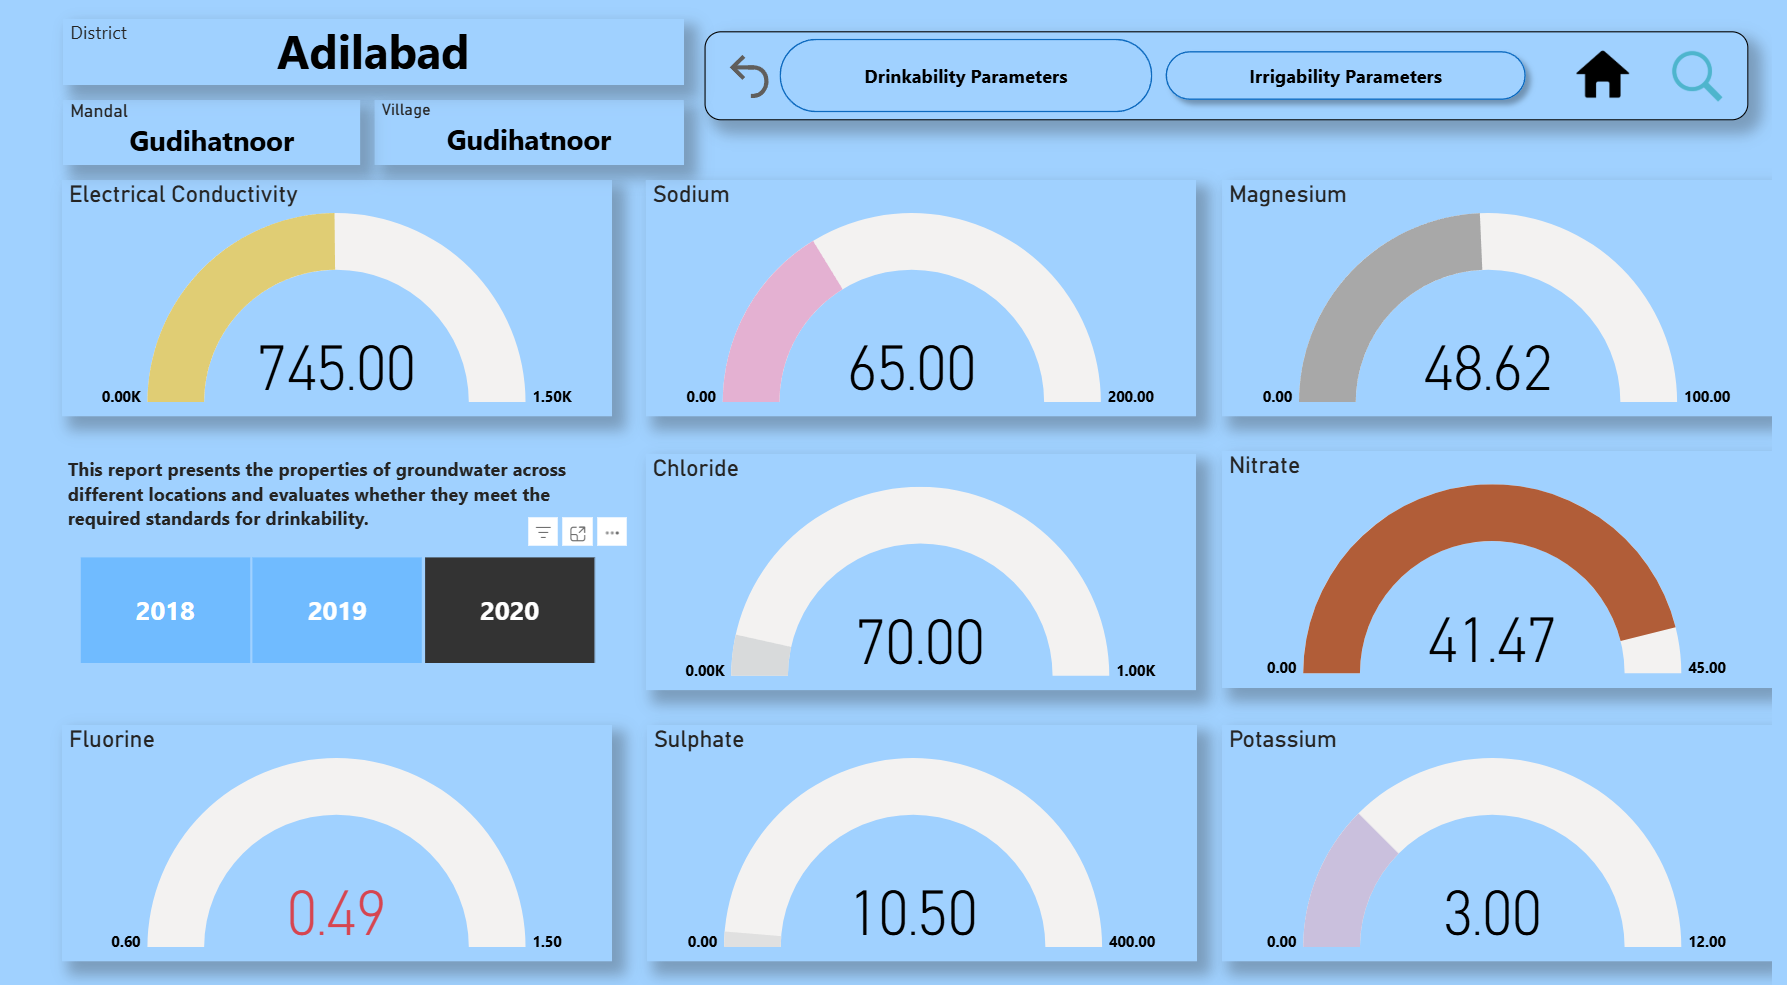

Layout of this report page (visuals, bound fields, positions):
{"tool":"powerbi","page":{"name":"Drinkability Parameters","canvas":[1280,720],"ordinal":2},"visuals":[{"type":"card","title":"District","fields":{"Values":["Water Measures.Drill District"]},"box":[37.3,12.8,451.3,47.8],"z":0,"group":"g1"},{"type":"shape","title":"Base Bar","box":[503.5,23.1,758.9,64.9],"z":0},{"type":"gauge","title":"Electrical Conductivity","fields":{"Y":["Water Measures.Electrical Conductivity"]},"box":[36.1,131.3,399.6,171.7],"z":0,"group":"g2"},{"type":"card","title":"Mandal","fields":{"Values":["Water Measures.Drill Mandal"]},"box":[37.5,71.9,216.3,47.5],"z":1000,"group":"g1"},{"type":"gauge","fields":{"Y":["Water Measures.Magnesium"]},"box":[880.1,131.3,399.6,171.7],"z":1000,"group":"g2"},{"type":"slicer","title":"Year Filter","fields":{"Values":["Cleaned Data.Year"]},"box":[23.9,398.5,423.9,91],"z":1000},{"type":"actionButton","title":"Reset View","box":[515.1,34.6,43.3,41.8],"z":2000},{"type":"card","title":"Village","fields":{"Values":["Water Measures.Drill Village"]},"box":[263.9,71.9,225,47.5],"z":2000,"group":"g1"},{"type":"gauge","fields":{"Y":["Water Measures.Sodium"]},"box":[460.3,131.3,399.6,171.7],"z":2000,"group":"g2"},{"type":"group","id":"g1","title":"Location Name Boxes","box":[37.3,8.7,451.6,110.7],"z":3000},{"type":"textbox","box":[37.3,8.7,73.4,32.7],"z":3000,"group":"g1"},{"type":"gauge","fields":{"Y":["Water Measures.Chloride"]},"box":[460.3,330.4,399.6,171.7],"z":3000,"group":"g2"},{"type":"shape","title":"Drink Navi","box":[558.5,28.6,271.2,53.5],"z":4000},{"type":"gauge","fields":{"Y":["Water Measures.Nitrate"]},"box":[880.1,329,399.6,171.7],"z":4000,"group":"g2"},{"type":"shape","title":"Irrig Navi","box":[829.7,28.6,279.9,53.5],"z":5000},{"type":"gauge","fields":{"Y":["Water Measures.Fluorine"]},"box":[36.1,527.3,399.6,171.7],"z":5000,"group":"g2"},{"type":"gauge","fields":{"Y":["Water Measures.Sulphate"]},"box":[461.7,528.1,399.6,171.7],"z":6000,"group":"g2"},{"type":"image","title":"Search Button","box":[1170.5,26.1,109.5,58.5],"z":7000},{"type":"gauge","fields":{"Y":["Water Measures.Potassium"]},"box":[880.1,528.1,399.6,171.7],"z":7000,"group":"g2"},{"type":"image","title":"Home","box":[1094.7,29.9,124.4,48.5],"z":8000},{"type":"group","id":"g2","title":"All Gauges","box":[36.1,131.3,1243.7,568.4],"z":9000},{"type":"textbox","box":[35.8,326.9,400,65.7],"z":11000}]}

Visuals, with their boxes in screenshot pixels (x1, y1, x2, y2), scaled from the page's 1280x720 canvas onto the 1787x985 screenshot:
"District" card: pyautogui.locateOnScreen(52, 18, 682, 83)
"Base Bar" shape: pyautogui.locateOnScreen(703, 32, 1762, 120)
"Electrical Conductivity" gauge: pyautogui.locateOnScreen(50, 180, 608, 415)
"Mandal" card: pyautogui.locateOnScreen(52, 98, 354, 163)
gauge - Water Measures.Magnesium: pyautogui.locateOnScreen(1229, 180, 1786, 415)
"Year Filter" slicer: pyautogui.locateOnScreen(33, 545, 625, 670)
"Reset View" actionButton: pyautogui.locateOnScreen(719, 47, 780, 105)
"Village" card: pyautogui.locateOnScreen(368, 98, 683, 163)
gauge - Water Measures.Sodium: pyautogui.locateOnScreen(643, 180, 1201, 415)
"Location Name Boxes" group: pyautogui.locateOnScreen(52, 12, 683, 163)
textbox: pyautogui.locateOnScreen(52, 12, 155, 57)
gauge - Water Measures.Chloride: pyautogui.locateOnScreen(643, 452, 1201, 687)
"Drink Navi" shape: pyautogui.locateOnScreen(780, 39, 1158, 112)
gauge - Water Measures.Nitrate: pyautogui.locateOnScreen(1229, 450, 1786, 685)
"Irrig Navi" shape: pyautogui.locateOnScreen(1158, 39, 1549, 112)
gauge - Water Measures.Fluorine: pyautogui.locateOnScreen(50, 721, 608, 956)
gauge - Water Measures.Sulphate: pyautogui.locateOnScreen(645, 722, 1202, 957)
"Search Button" image: pyautogui.locateOnScreen(1634, 36, 1786, 116)
gauge - Water Measures.Potassium: pyautogui.locateOnScreen(1229, 722, 1786, 957)
"Home" image: pyautogui.locateOnScreen(1528, 41, 1702, 107)
"All Gauges" group: pyautogui.locateOnScreen(50, 180, 1786, 957)
textbox: pyautogui.locateOnScreen(50, 447, 608, 537)
